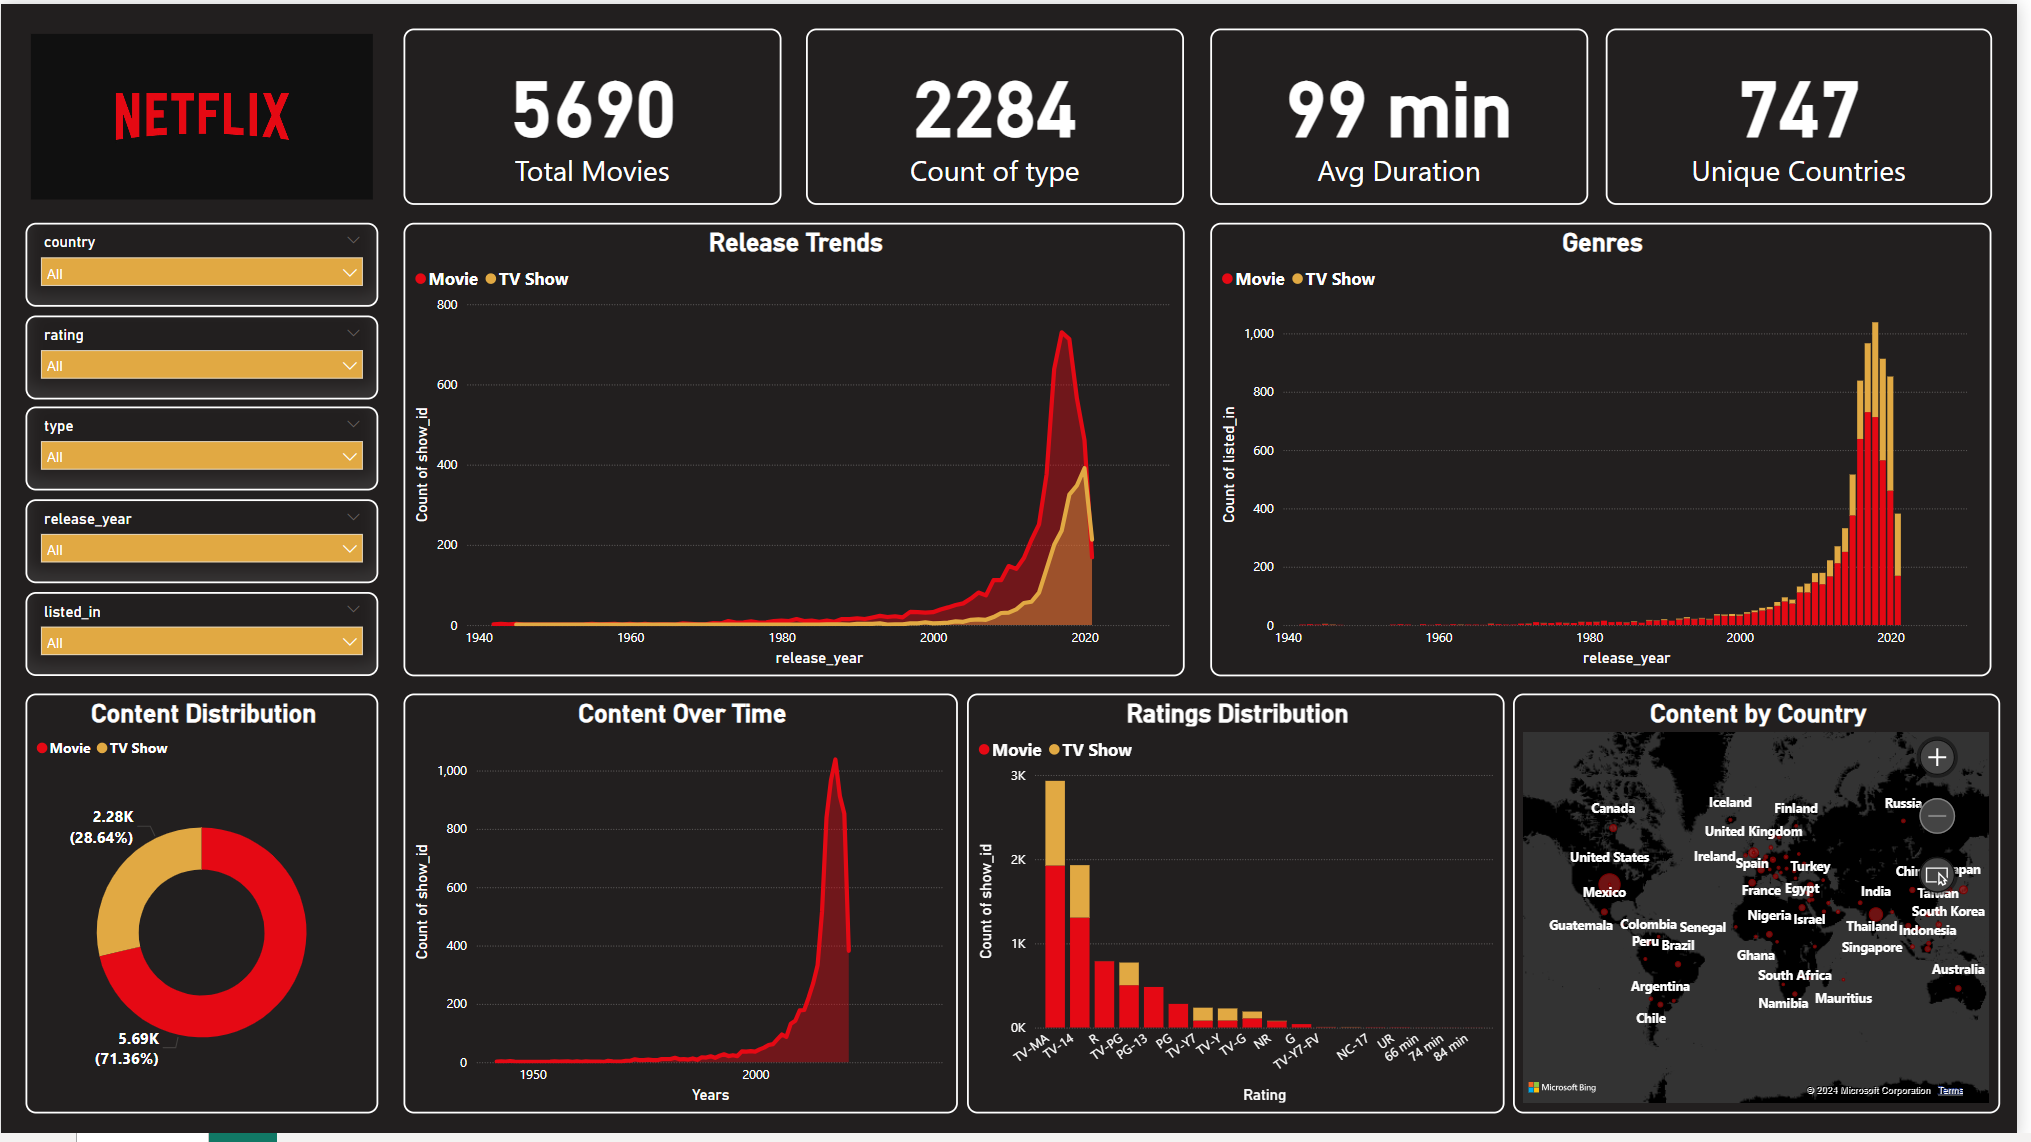

Layout of this report page (visuals, bound fields, positions):
{"tool":"powerbi","page":{"name":"Page 1","canvas":[1920,1080],"ordinal":0},"visuals":[{"type":"map","title":"Content by Country","fields":{"Category":["netflix_movies (2).country"],"Size":["CountNonNull(netflix_movies (2).show_id)"]},"box":[1440,656,456,400],"z":0},{"type":"donutChart","title":"Content Distribution","fields":{"Category":["netflix_movies (2).type"],"Y":["CountNonNull(netflix_movies (2).title)"]},"box":[24,656,336,400],"z":1000},{"type":"card","title":"Viewers by Country","fields":{"Values":["Count(netflix_movies (2).country)"]},"box":[1528,24,368,168],"z":2000},{"type":"lineChart","title":"Content Over Time","fields":{"Category":["netflix_movies (2).release_year"],"Y":["CountNonNull(netflix_movies (2).show_id)"]},"box":[384,656,528,400],"z":3000},{"type":"card","title":"Viewers by Country","fields":{"Values":["CountNonNull(netflix_movies (2).type)"]},"box":[383.4,23.6,360,168],"z":4000},{"type":"card","title":"Viewers by Country","fields":{"Values":["CountNonNull(netflix_movies (2).type)"]},"box":[767.4,23.6,360,168],"z":5000},{"type":"image","box":[24,24,336,168],"z":6000},{"type":"card","title":"Viewers by Country","fields":{"Values":["Max(netflix_movies (2).duration)"]},"box":[1151.4,23.6,360,168],"z":7000},{"type":"columnChart","title":"Ratings Distribution","fields":{"Category":["netflix_movies (2).rating"],"Y":["CountNonNull(netflix_movies (2).show_id)"],"Series":["netflix_movies (2).type"]},"box":[920,656,512,400],"z":8000},{"type":"columnChart","title":"Genres","fields":{"Category":["netflix_movies (2).release_year"],"Y":["CountNonNull(netflix_movies (2).listed_in)"],"Series":["netflix_movies (2).type"]},"box":[1152,208,744,432],"z":9000},{"type":"slicer","title":"Category","fields":{"Values":["netflix_movies (2).country"]},"box":[24,208,336,80],"z":10000},{"type":"slicer","title":"Category","fields":{"Values":["netflix_movies (2).type"]},"box":[24,384,336,80],"z":11000},{"type":"slicer","title":"Category","fields":{"Values":["netflix_movies (2).rating"]},"box":[24,296,336,80],"z":12000},{"type":"slicer","title":"Category","fields":{"Values":["netflix_movies (2).release_year"]},"box":[24,472,336,80],"z":13000},{"type":"slicer","title":"Category","fields":{"Values":["netflix_movies (2).listed_in"]},"box":[24,560,336,80],"z":14000},{"type":"lineChart","title":"Release Trends","fields":{"Category":["netflix_movies (2).release_year"],"Y":["CountNonNull(netflix_movies (2).show_id)"],"Series":["netflix_movies (2).type"]},"box":[384,208,744,432],"z":15000}]}

Visuals, with their boxes in screenshot pixels (x1, y1, x2, y2), scaled from the page's 1920x1080 canvas onto the 2031x1142 screenshot:
"Content by Country" map: rect(1523, 694, 2006, 1117)
"Content Distribution" donutChart: rect(25, 694, 381, 1117)
"Viewers by Country" card: rect(1616, 25, 2006, 203)
"Content Over Time" lineChart: rect(406, 694, 965, 1117)
"Viewers by Country" card: rect(406, 25, 786, 203)
"Viewers by Country" card: rect(812, 25, 1193, 203)
image: rect(25, 25, 381, 203)
"Viewers by Country" card: rect(1218, 25, 1599, 203)
"Ratings Distribution" columnChart: rect(973, 694, 1515, 1117)
"Genres" columnChart: rect(1219, 220, 2006, 677)
"Category" slicer: rect(25, 220, 381, 305)
"Category" slicer: rect(25, 406, 381, 491)
"Category" slicer: rect(25, 313, 381, 398)
"Category" slicer: rect(25, 499, 381, 584)
"Category" slicer: rect(25, 592, 381, 677)
"Release Trends" lineChart: rect(406, 220, 1193, 677)
